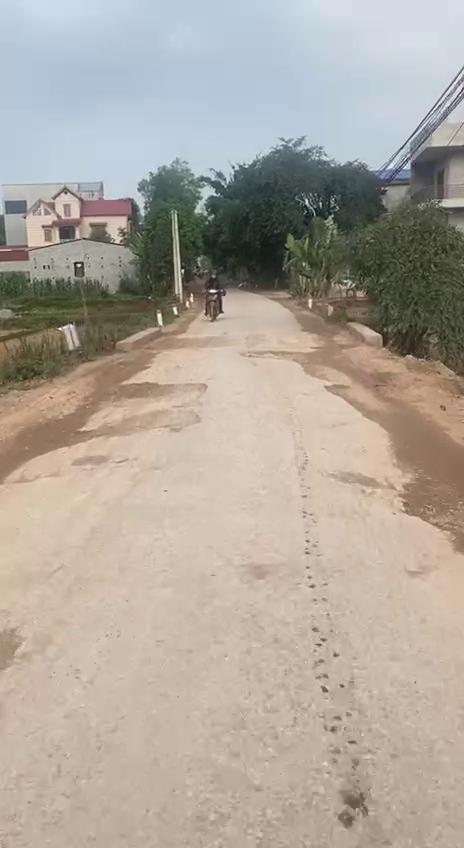pothole: (400, 479, 464, 554)
